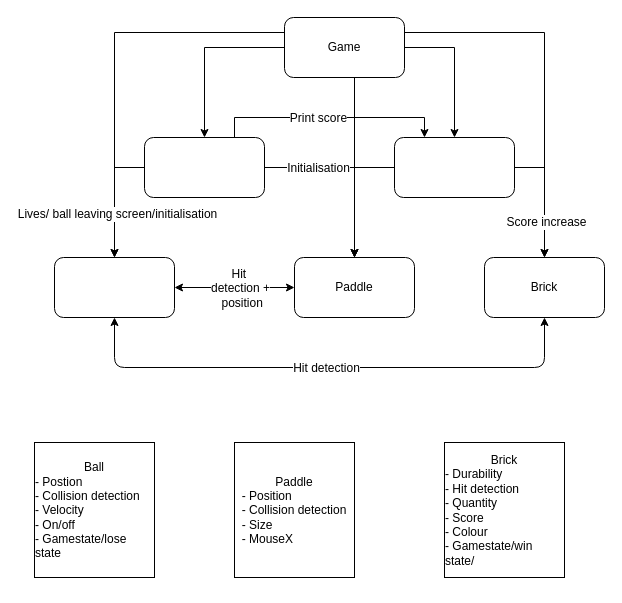
Image size: 622x603. Some labels were removed from this diagram. Each missing label, with the centre of its shape:
Ball: the point at 114,287
Gamestate: the point at 204,167
Score: the point at 454,167
